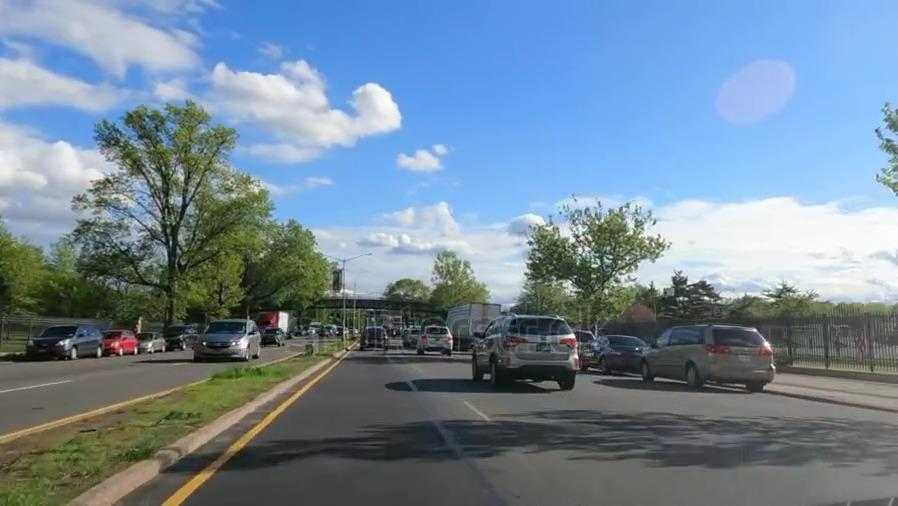car: (643, 326, 782, 396), (476, 316, 577, 387), (195, 320, 264, 362), (25, 327, 106, 359), (591, 332, 649, 372), (419, 323, 455, 355), (105, 327, 135, 355), (356, 328, 392, 350), (166, 326, 195, 349), (139, 332, 166, 352), (262, 328, 287, 347)
